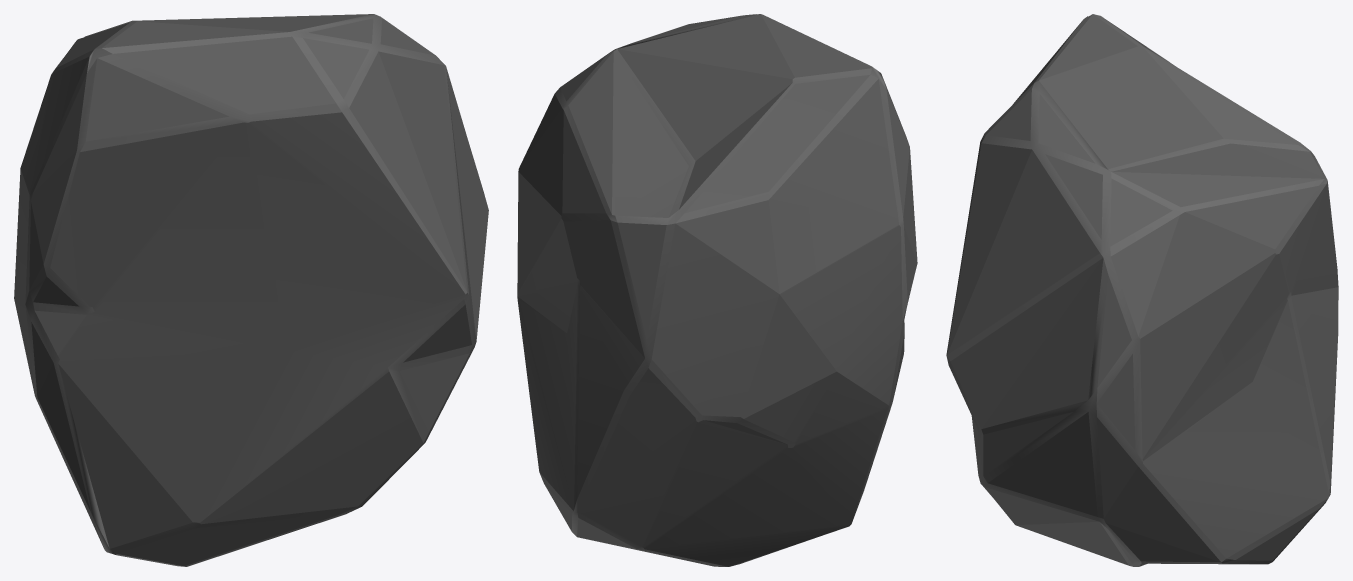
Rendered from Rock00.FBX.
3 views of the same model, side by side, from view 1: azimuth 30°, elevation 25°; view 2: azimuth 150°, elevation 25°; view 3: azimuth 270°, elevation 25° (orthographic). The views are drawn at different scales.
Visible parts, largest first — view 1: Rock_big_05; view 2: Rock_big_05; view 3: Rock_big_05.
Part boxes in pixels (x1,y1,x2,y2): Rock_big_05: [14, 14, 488, 566]; Rock_big_05: [517, 14, 917, 566]; Rock_big_05: [946, 14, 1338, 566].
Bounding box in the file's own units: 4.74 × 4.15 × 5.7.
